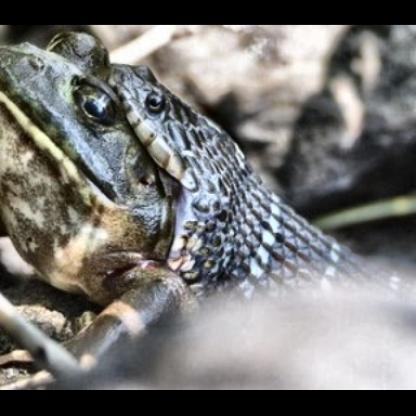Snake: (17, 35, 398, 381)
